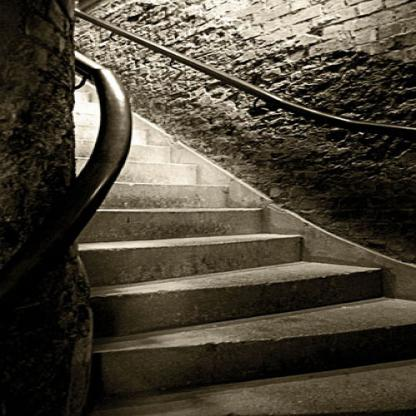stairs: (102, 250, 347, 402)
